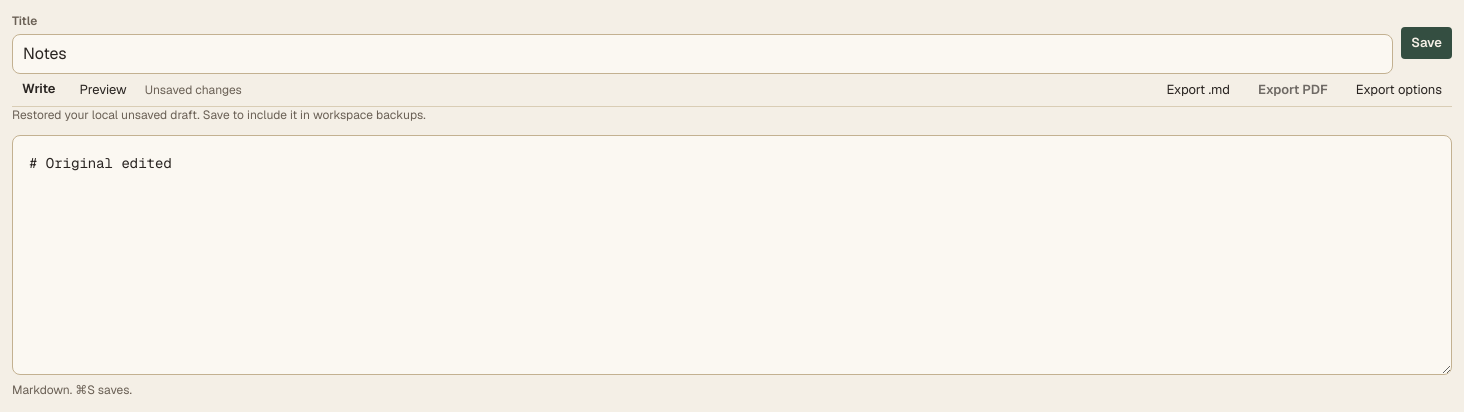
Scenario: reports a rejected native print request
The image size is (1464, 412).
Click the tab "Preview" at (103, 90), box [70,74,137,106]
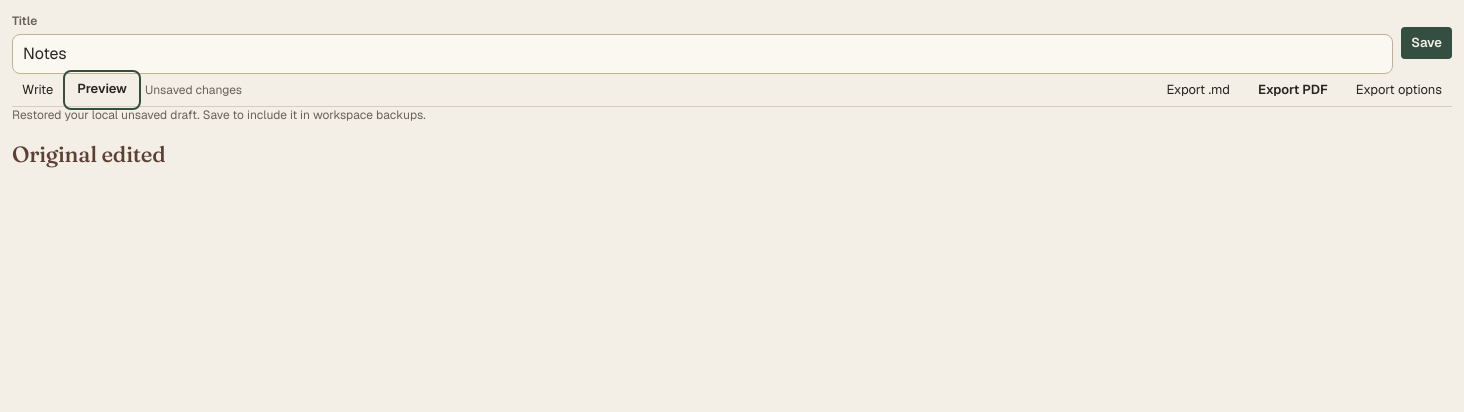
Click the button "Export PDF" at (1293, 90), box [1248,74,1338,106]
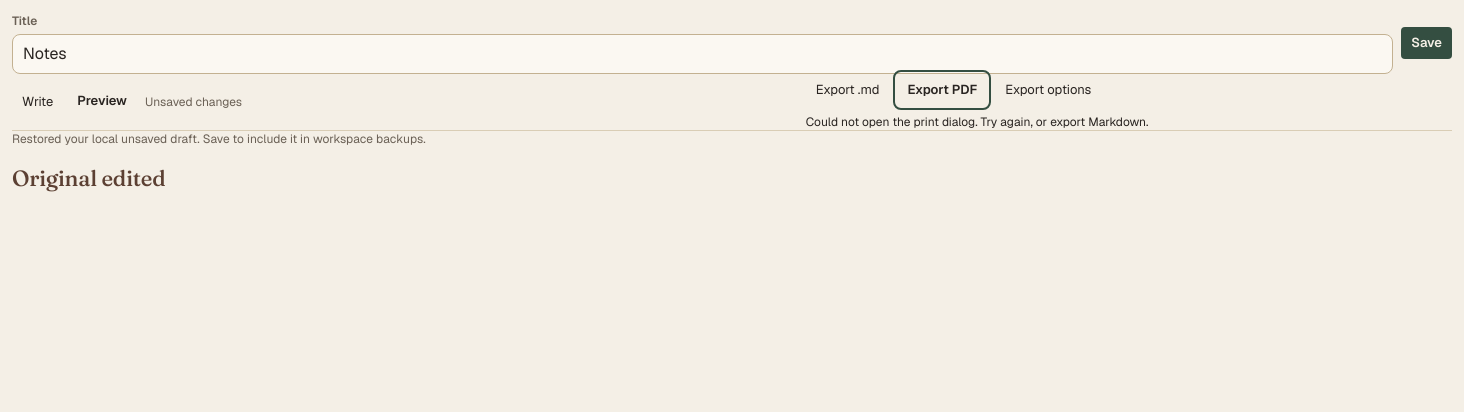
Now the message "Could not open the print dialog. Try again, or export Markdown." is shown, box [806,114,1148,130]
